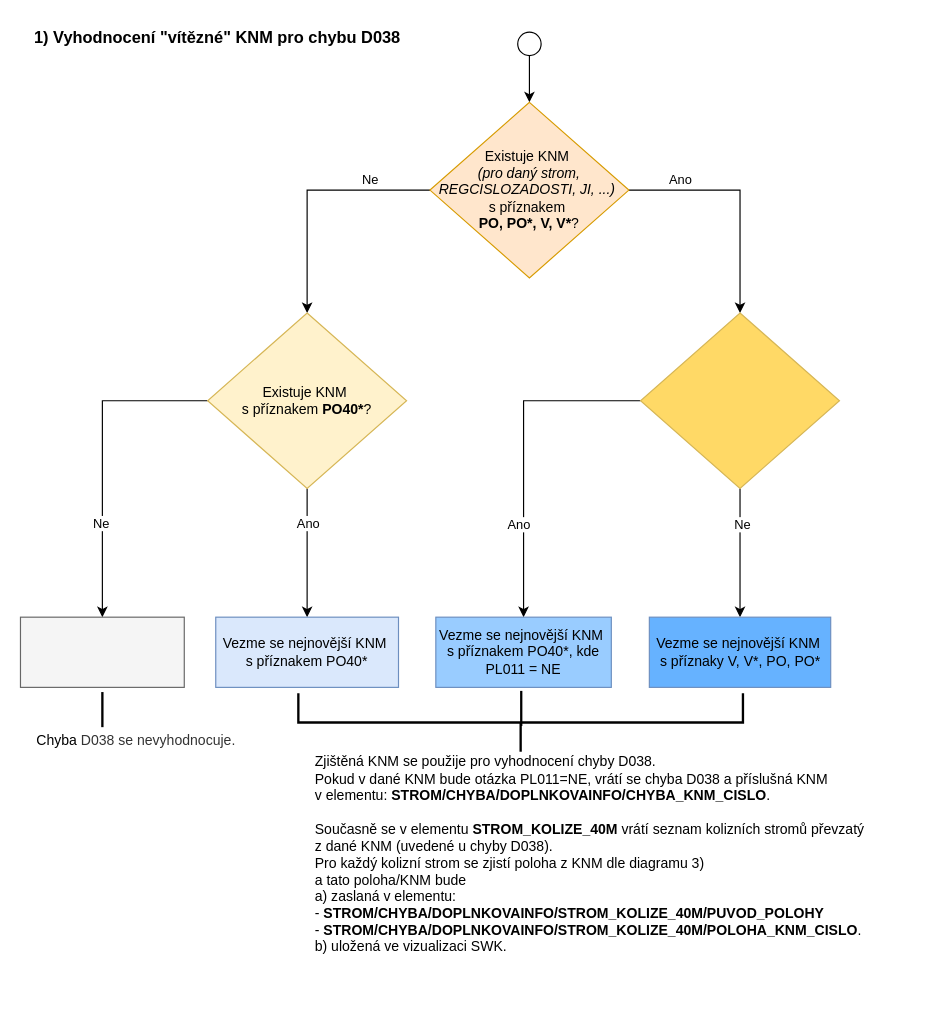
This 930x1009 diagram has some shape labels left out. The shapes that lost their labels are listed below. From the top down, each one's centre as x and y in pixels, then its label:
At point 739,400: "Existuje novější KNM s příznakem PO40* , kde PL011 = NE ?".
At point 101,651: "KNM pro daný strom neexistuje".
